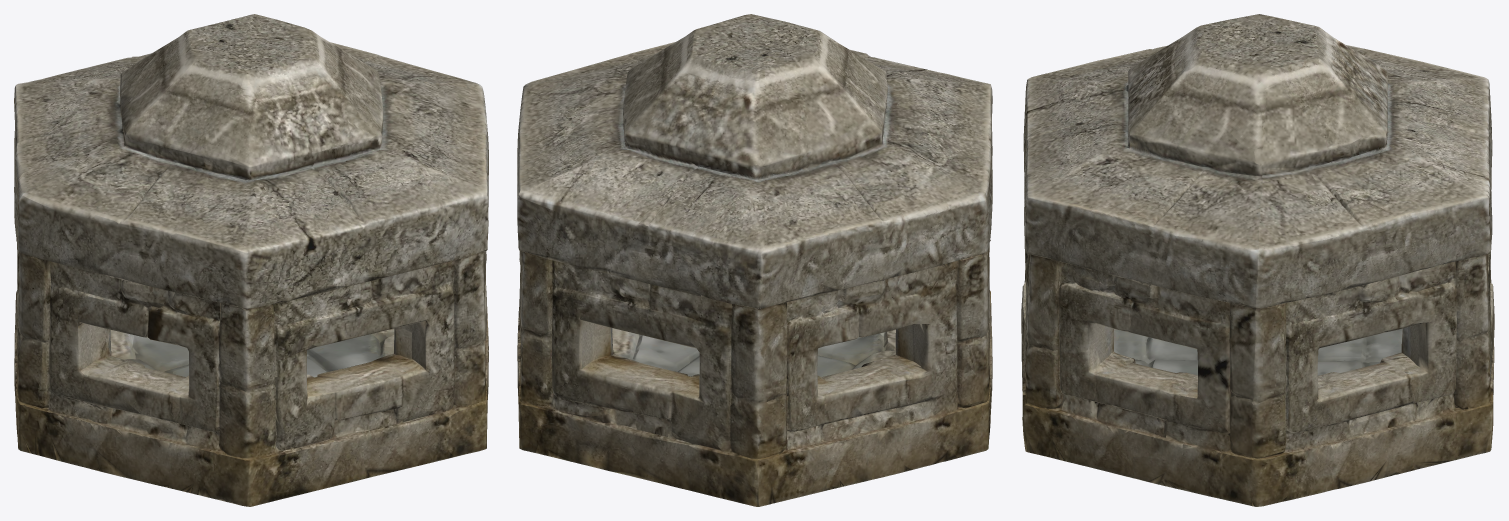
Rendered from tower__pillbox-bunker_e6.glb.
3 renders of one model, left to right at view 1: azimuth 30°, elevation 25°; view 2: azimuth 150°, elevation 25°; view 3: azimuth 270°, elevation 25°, orthographic.
Size of the model in its own units: 1.9 by 1.37 by 1.67.
Materials: 1 (1 with a texture image).
